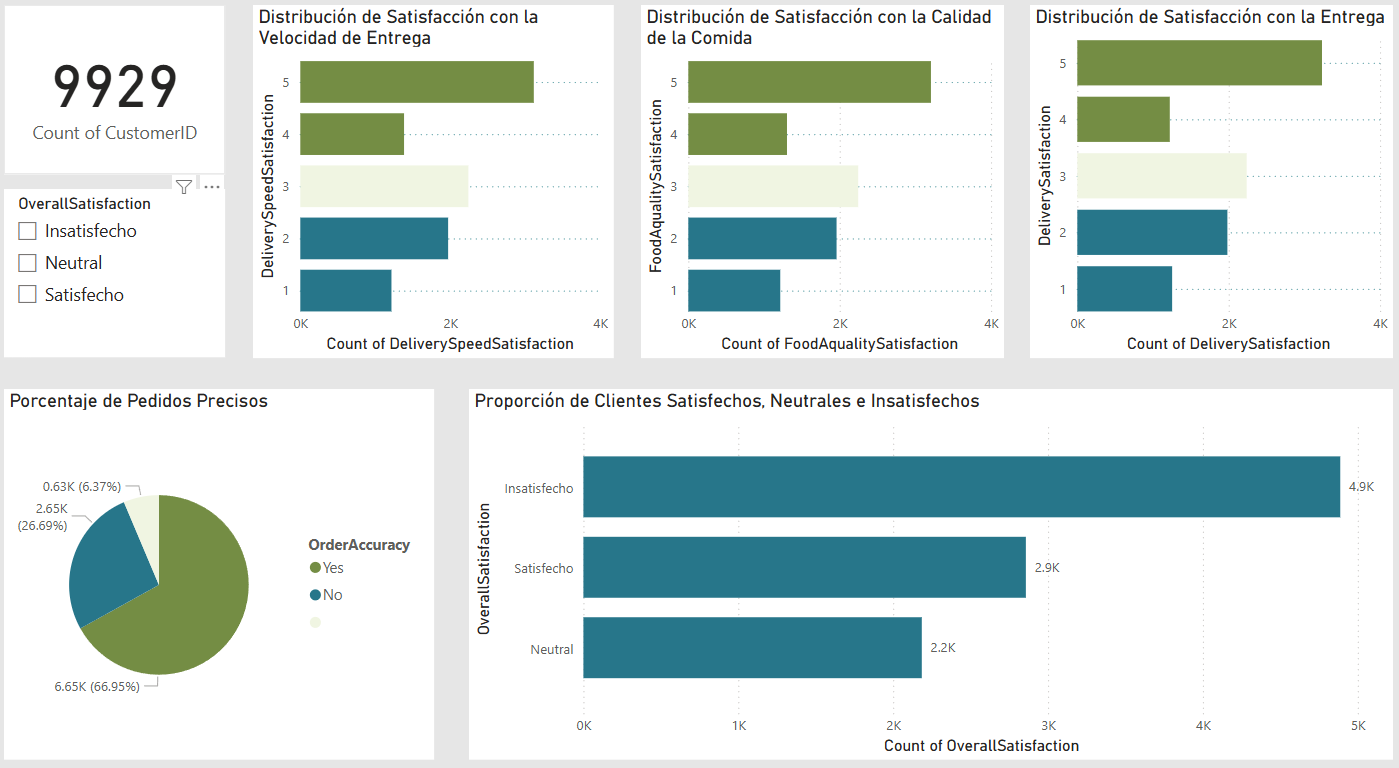

What the dashboard file says about the page in this screenshot:
{"tool":"powerbi","page":{"name":"Análisis exploratorio","canvas":[1280,720],"ordinal":0},"visuals":[{"type":"barChart","title":"Distribución de Satisfacción con la Entrega","fields":{"Y":["CountNonNull(customer_feedback customer_survey.DeliverySatisfaction)"],"Category":["customer_feedback customer_survey.DeliverySatisfaction"]},"box":[941.6,10.5,330.2,320.6],"z":0},{"type":"barChart","title":"Distribución de Satisfacción con la Calidad de la Comida","fields":{"Y":["CountNonNull(customer_feedback customer_survey.FoodAqualitySatisfaction)"],"Category":["customer_feedback customer_survey.FoodAqualitySatisfaction"]},"box":[587.7,10.5,330.2,320.6],"z":1000},{"type":"barChart","title":"Distribución de Satisfacción con la Velocidad de Entrega","fields":{"Category":["customer_feedback customer_survey.DeliverySpeedSatisfaction"],"Y":["CountNonNull(customer_feedback customer_survey.DeliverySpeedSatisfaction)"]},"box":[235.6,10.5,327.6,320.6],"z":2000},{"type":"pieChart","title":"Porcentaje de Pedidos Precisos","fields":{"Category":["customer_feedback customer_survey.OrderAccuracy"],"Y":["CountNonNull(customer_feedback customer_survey.OrderAccuracy)"]},"box":[8.8,360,390.7,337.2],"z":3000},{"type":"clusteredBarChart","title":"Proporción de Clientes Satisfechos, Neutrales e Insatisfechos","fields":{"Category":["customer_feedback customer_survey.OverallSatisfaction"],"Y":["CountNonNull(customer_feedback customer_survey.OverallSatisfaction)"]},"box":[431.8,360,840,337.2],"z":4000},{"type":"slicer","fields":{"Values":["customer_feedback customer_survey.OverallSatisfaction"]},"box":[8.8,177.8,201.5,153.3],"z":5000},{"type":"card","fields":{"Values":["CountNonNull(customer_feedback customer_survey.CustomerID)"]},"box":[8.8,10.5,201.5,154.2],"z":6000}]}

Visuals, with their boxes in screenshot pixels (x1, y1, x2, y2), scaled from the page's 1280x720 canvas onto the 1399x768 screenshot:
"Distribución de Satisfacción con la Entrega" barChart: detection(1029, 11, 1390, 353)
"Distribución de Satisfacción con la Calidad de la Comida" barChart: detection(642, 11, 1003, 353)
"Distribución de Satisfacción con la Velocidad de Entrega" barChart: detection(258, 11, 616, 353)
"Porcentaje de Pedidos Precisos" pieChart: detection(10, 384, 437, 744)
"Proporción de Clientes Satisfechos, Neutrales e Insatisfechos" clusteredBarChart: detection(472, 384, 1390, 744)
slicer - customer_feedback customer_survey.OverallSatisfaction: detection(10, 190, 230, 353)
card - CountNonNull(customer_feedback customer_survey.CustomerID): detection(10, 11, 230, 176)
